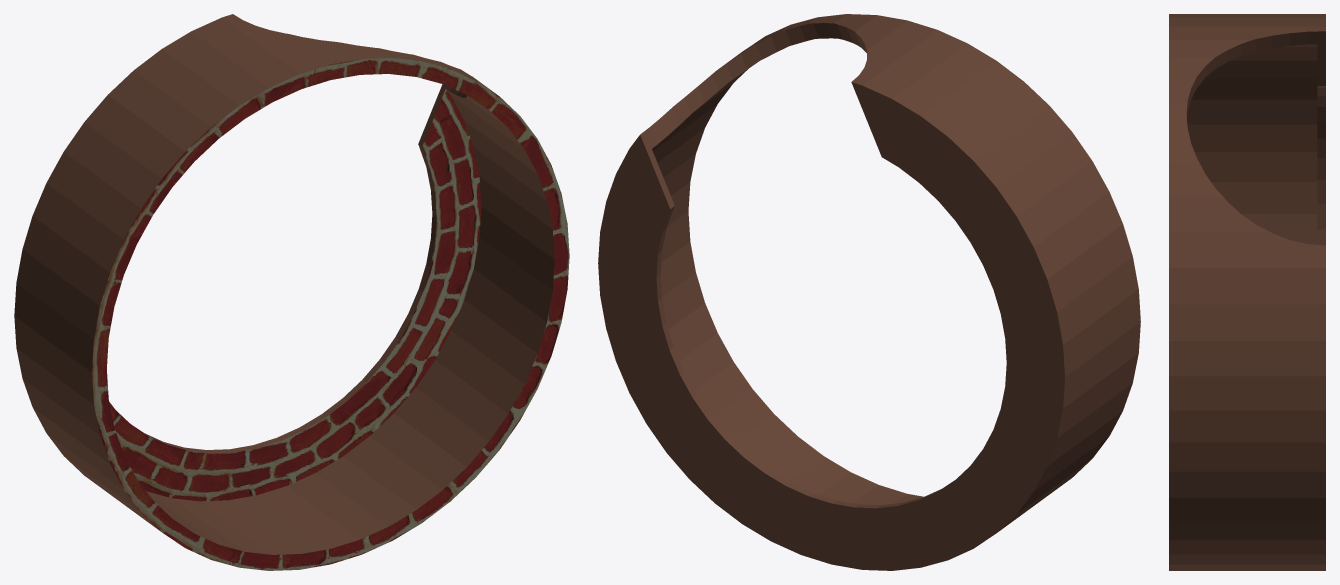
File: pool_040.obj
3 views of the same model, side by side, from view 1: azimuth 30°, elevation 25°; view 2: azimuth 150°, elevation 25°; view 3: azimuth 270°, elevation 25° (orthographic). The views are drawn at different scales.
Bounding box in the file's own units: 32 × 32 × 9.
